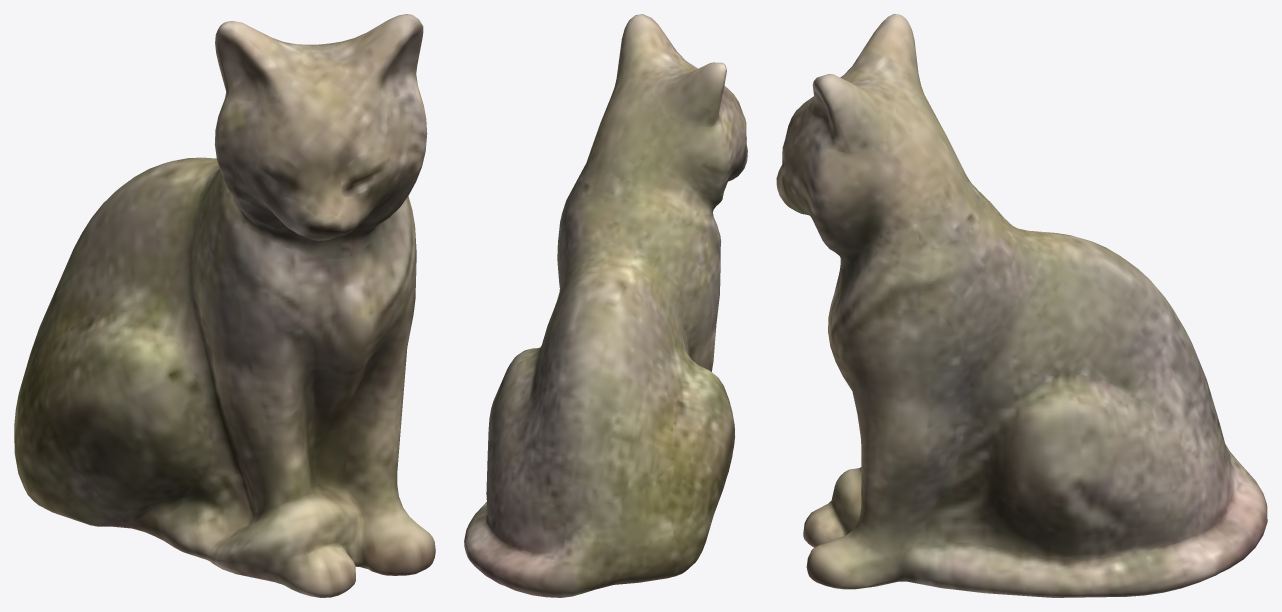
File: maew_lo.glb
3 renders of one model, left to right at view 1: azimuth 30°, elevation 25°; view 2: azimuth 150°, elevation 25°; view 3: azimuth 270°, elevation 25°, orthographic. The views are drawn at different scales.
Visible parts, largest first — view 1: concrete_cat_statue; view 2: concrete_cat_statue; view 3: concrete_cat_statue.
Part boxes in pixels (left/top/right/bottom): concrete_cat_statue: left=14, top=14, right=435, bottom=597; concrete_cat_statue: left=464, top=14, right=747, bottom=597; concrete_cat_statue: left=776, top=14, right=1267, bottom=597.
Bounding box in the file's own units: 0.153 × 0.283 × 0.25.
Materials: 1 (1 with a texture image).
